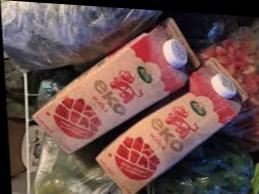cardboard: (97, 40, 258, 192), (33, 18, 198, 152), (2, 1, 149, 69)
